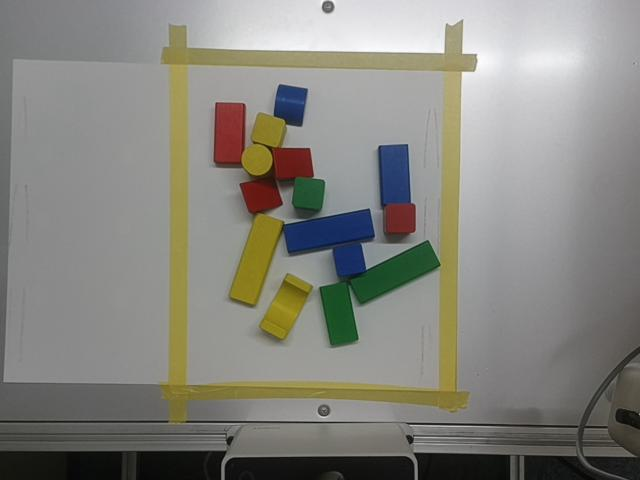blue_cube: (335, 243, 366, 276)
blue_longrect: (283, 210, 376, 253)
blue_rect: (379, 144, 411, 204)
cylinder: (242, 144, 272, 175)
green_cube: (292, 178, 325, 210)
green_longrect: (351, 240, 441, 305)
green_rect: (321, 282, 358, 345)
half_cylinder: (273, 85, 308, 127)
red_cube: (386, 205, 415, 232)
red_rect: (215, 103, 244, 163)
triangle: (240, 177, 283, 212), (274, 148, 314, 179)
yellow_archrect: (258, 273, 313, 341)
yellow_cube: (249, 113, 285, 148)
yellow_longrect: (228, 213, 285, 305)
